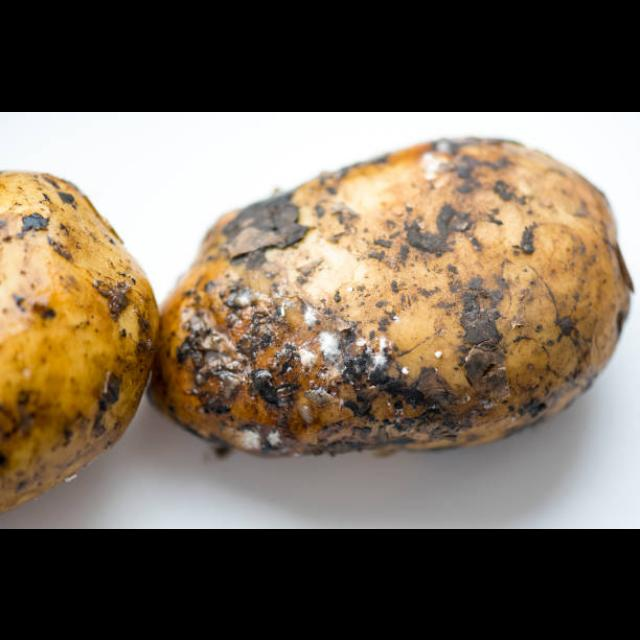Diseased-fungal potato: (162, 138, 620, 468), (0, 160, 150, 510)
